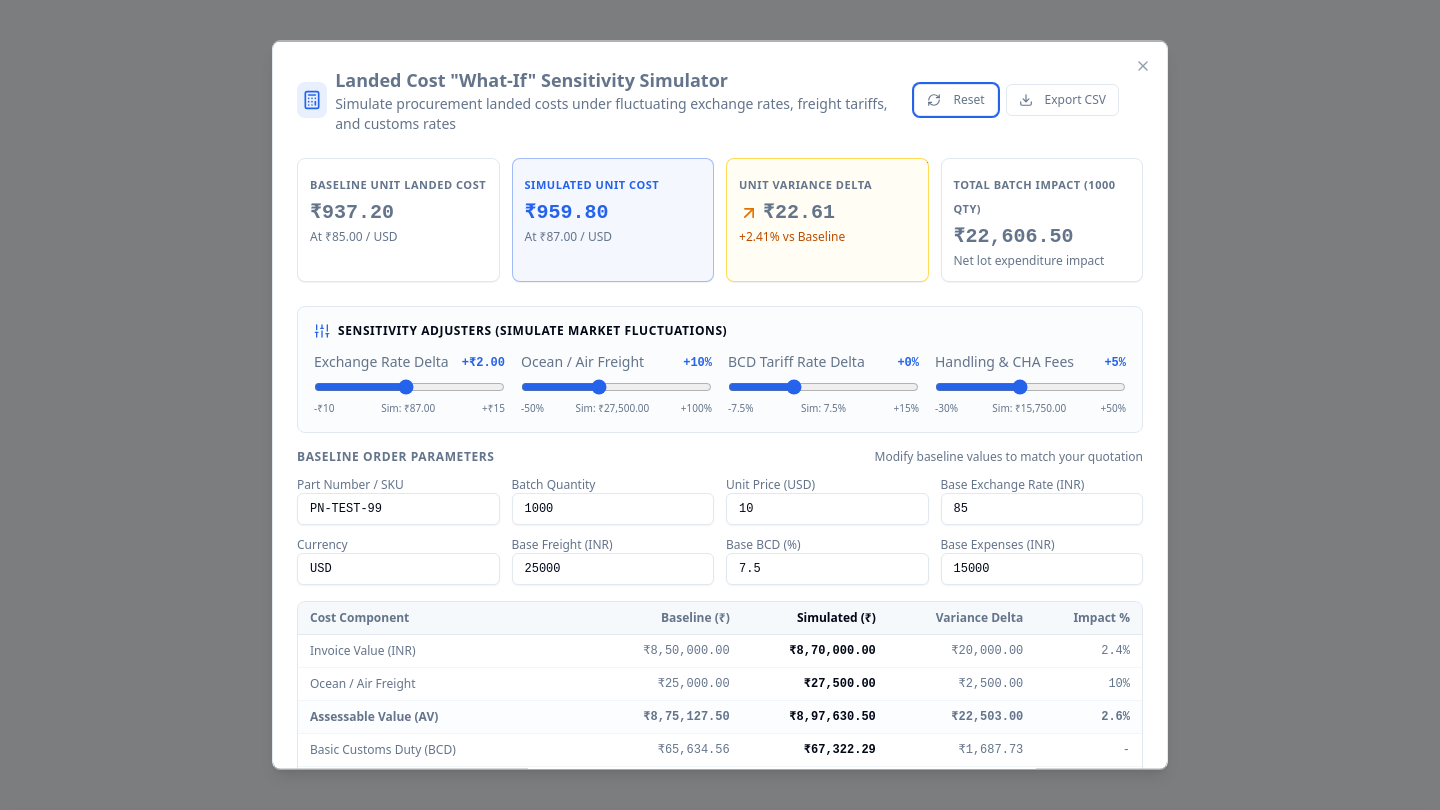
Scenario: Phase 2: Landed Cost "What-If" Sensitivity Simulator › adjusts simulation parameters when sliders change
The image size is (1440, 810).
Set the slider labelled "Exchange Rate Delta" to "5" at [427, 386], box [314,378,505,394]
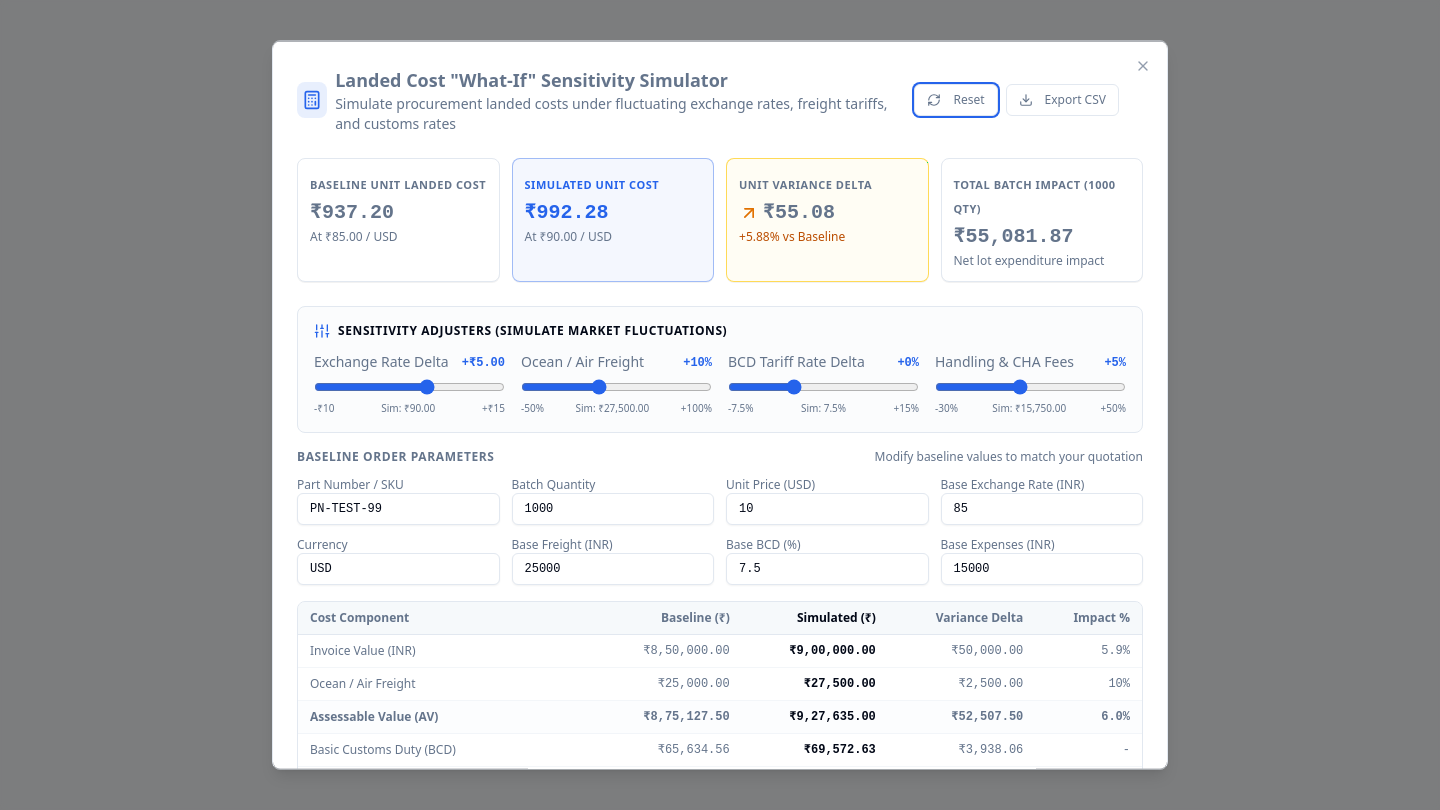
Expected: the text "+₹5.00" is shown, [462,354,505,370]
